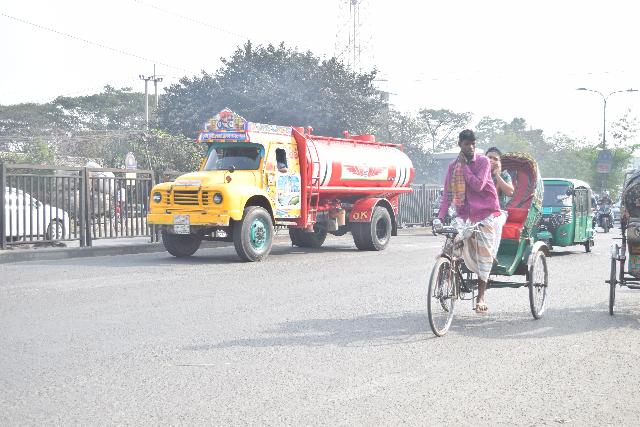motorcycle: (594, 196, 615, 238)
truck: (139, 109, 415, 272)
